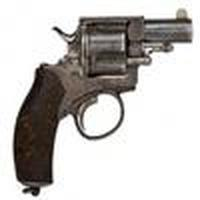gun: (5, 14, 191, 191)
